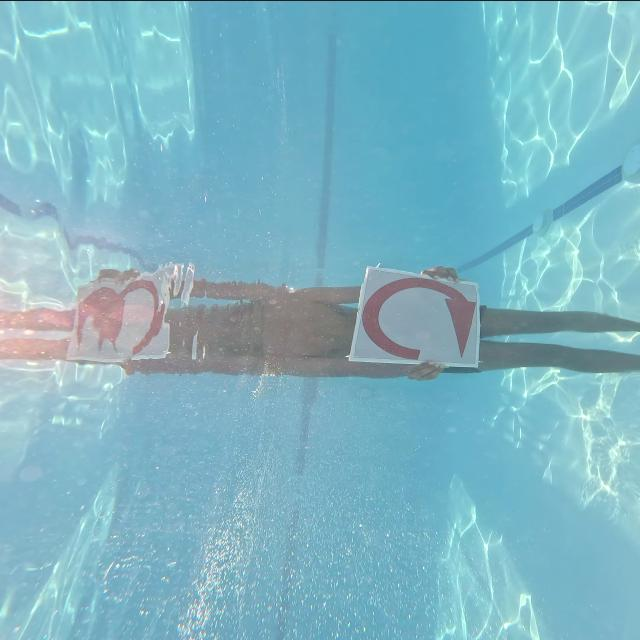red_side: (350, 274, 482, 366)
